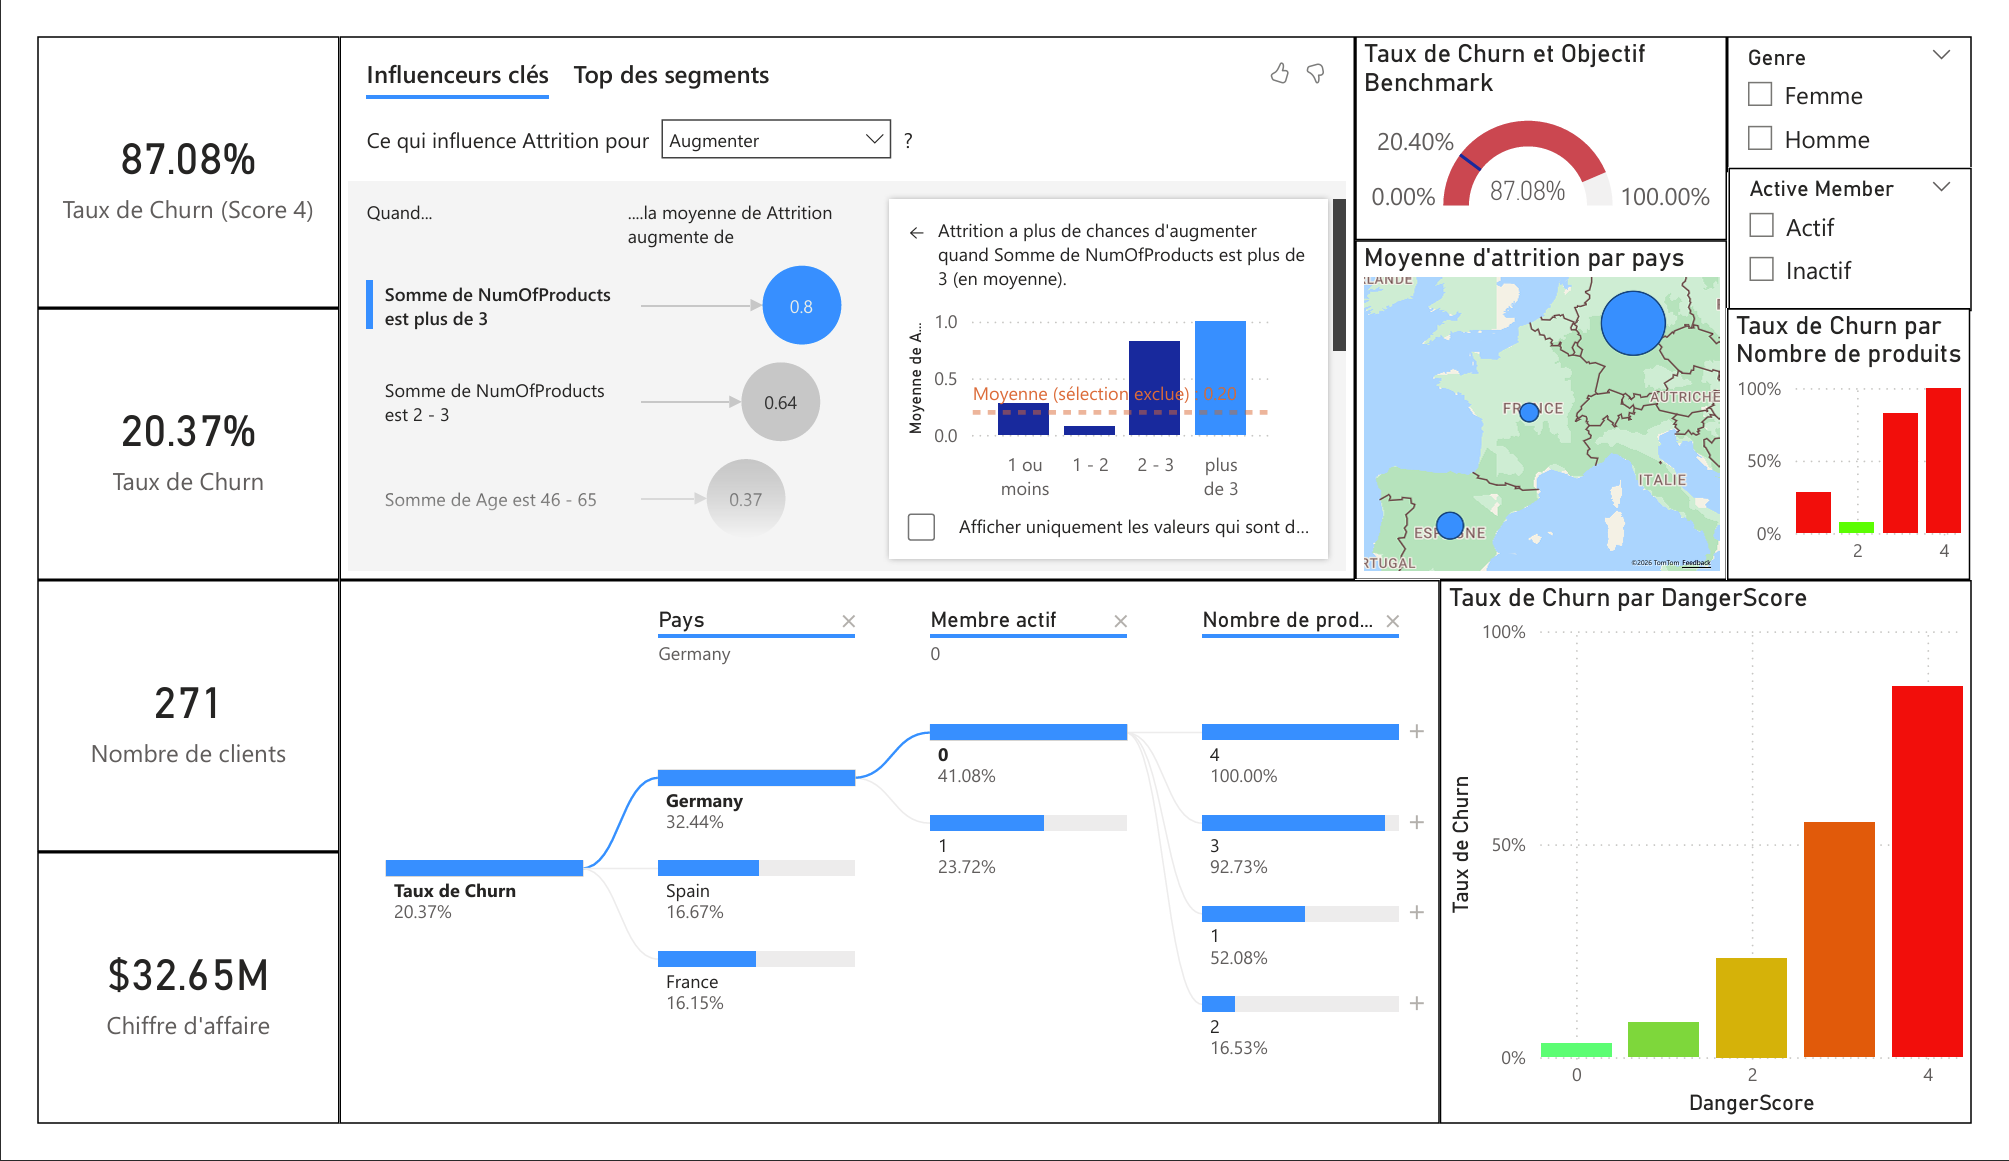

This screenshot's page, from the dashboard's own definition file:
{"tool":"powerbi","page":{"name":"Page 1","canvas":[1280,720],"ordinal":0},"visuals":[{"type":"card","fields":{"Values":["Sum(Final_Portfolio_Dataset_v2.Balance)"]},"box":[0,540,200,180],"z":0},{"type":"card","fields":{"Values":["Final_Portfolio_Dataset_v2.Taux de Churn %"]},"box":[0,0,200,180],"z":1000},{"type":"card","fields":{"Values":["CountNonNull(Final_Portfolio_Dataset_v2.CustomerId)"]},"box":[0,360,200,180],"z":2000},{"type":"clusteredColumnChart","fields":{"Y":["Final_Portfolio_Dataset_v2.Taux de Churn %"],"Category":["Final_Portfolio_Dataset_v2.DangerScore"]},"box":[927.5,360,352.5,360],"z":3000},{"type":"azureMap","fields":{"Category":["Final_Portfolio_Dataset_v2.Geography"],"Size":["Avg(Final_Portfolio_Dataset_v2.Exited)"]},"box":[871.7,135,246.7,225],"z":4000},{"type":"slicer","fields":{"Values":["Final_Portfolio_Dataset_v2.Genre"]},"box":[1118.3,0,161.7,90],"z":5000},{"type":"slicer","fields":{"Values":["Final_Portfolio_Dataset_v2.Statut Activité"]},"box":[1118.6,87.1,161.4,95],"z":6000},{"type":"decompositionTreeVisual","fields":{"Analyze":["Final_Portfolio_Dataset_v2.Taux de Churn %"],"ExplainBy":["Final_Portfolio_Dataset_v2.Geography","Final_Portfolio_Dataset_v2.IsActiveMember","Final_Portfolio_Dataset_v2.NumOfProducts","Final_Portfolio_Dataset_v2.Age"]},"box":[200,360,727.5,360],"z":7000},{"type":"keyDriversVisual","fields":{"Target":["Final_Portfolio_Dataset_v2.Exited"],"ExplainBy":["Sum(Final_Portfolio_Dataset_v2.Age)","Final_Portfolio_Dataset_v2.Geography","Sum(Final_Portfolio_Dataset_v2.IsActiveMember)","Sum(Final_Portfolio_Dataset_v2.NumOfProducts)"]},"box":[200,0,671.7,360],"z":8000},{"type":"card","fields":{"Values":["Final_Portfolio_Dataset_v2.Taux de Churn %"]},"box":[0,180,200,180],"z":9000},{"type":"gauge","fields":{"Y":["Final_Portfolio_Dataset_v2.Taux de Churn %"],"TargetValue":["Final_Portfolio_Dataset_v2.Objectif Benchmark"]},"box":[871.7,0,246.7,135],"z":10000},{"type":"clusteredColumnChart","fields":{"Y":["Final_Portfolio_Dataset_v2.Taux de Churn %"],"Category":["Final_Portfolio_Dataset_v2.NumOfProducts"]},"box":[1118.3,180,160.8,180],"z":11000}]}

Visuals, with their boxes in screenshot pixels (x1, y1, x2, y2), scaled from the page's 1280x720 canvas onto the 2009x1161 screenshot:
card - Sum(Final_Portfolio_Dataset_v2.Balance): {"x1": 0, "y1": 871, "x2": 314, "y2": 1160}
card - Final_Portfolio_Dataset_v2.Taux de Churn %: {"x1": 0, "y1": 0, "x2": 314, "y2": 290}
card - CountNonNull(Final_Portfolio_Dataset_v2.CustomerId): {"x1": 0, "y1": 580, "x2": 314, "y2": 871}
clusteredColumnChart - Final_Portfolio_Dataset_v2.Taux de Churn % x Final_Portfolio_Dataset_v2.DangerScore: {"x1": 1456, "y1": 580, "x2": 2008, "y2": 1160}
azureMap - Final_Portfolio_Dataset_v2.Geography x Avg(Final_Portfolio_Dataset_v2.Exited): {"x1": 1368, "y1": 218, "x2": 1755, "y2": 580}
slicer - Final_Portfolio_Dataset_v2.Genre: {"x1": 1755, "y1": 0, "x2": 2008, "y2": 145}
slicer - Final_Portfolio_Dataset_v2.Statut Activité: {"x1": 1756, "y1": 140, "x2": 2008, "y2": 294}
decompositionTreeVisual - Final_Portfolio_Dataset_v2.Taux de Churn % x Final_Portfolio_Dataset_v2.Geography: {"x1": 314, "y1": 580, "x2": 1456, "y2": 1160}
keyDriversVisual - Final_Portfolio_Dataset_v2.Exited x Sum(Final_Portfolio_Dataset_v2.Age): {"x1": 314, "y1": 0, "x2": 1368, "y2": 580}
card - Final_Portfolio_Dataset_v2.Taux de Churn %: {"x1": 0, "y1": 290, "x2": 314, "y2": 580}
gauge - Final_Portfolio_Dataset_v2.Taux de Churn % x Final_Portfolio_Dataset_v2.Objectif Benchmark: {"x1": 1368, "y1": 0, "x2": 1755, "y2": 218}
clusteredColumnChart - Final_Portfolio_Dataset_v2.Taux de Churn % x Final_Portfolio_Dataset_v2.NumOfProducts: {"x1": 1755, "y1": 290, "x2": 2008, "y2": 580}
